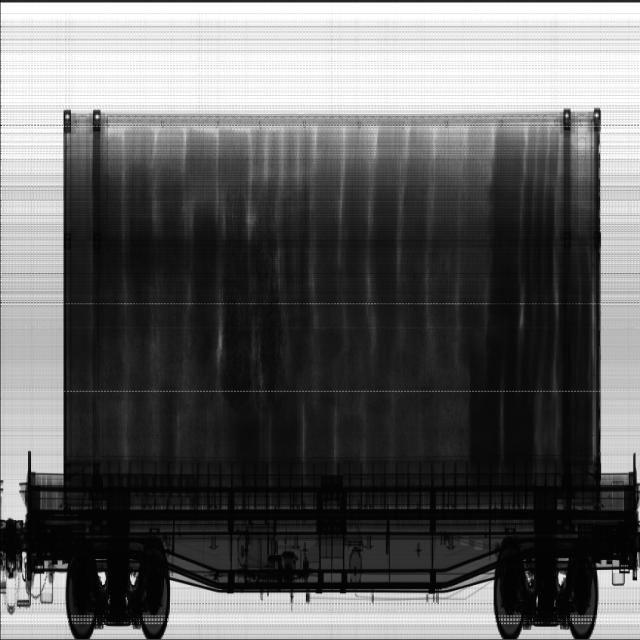clothes: (519, 125, 596, 458)
